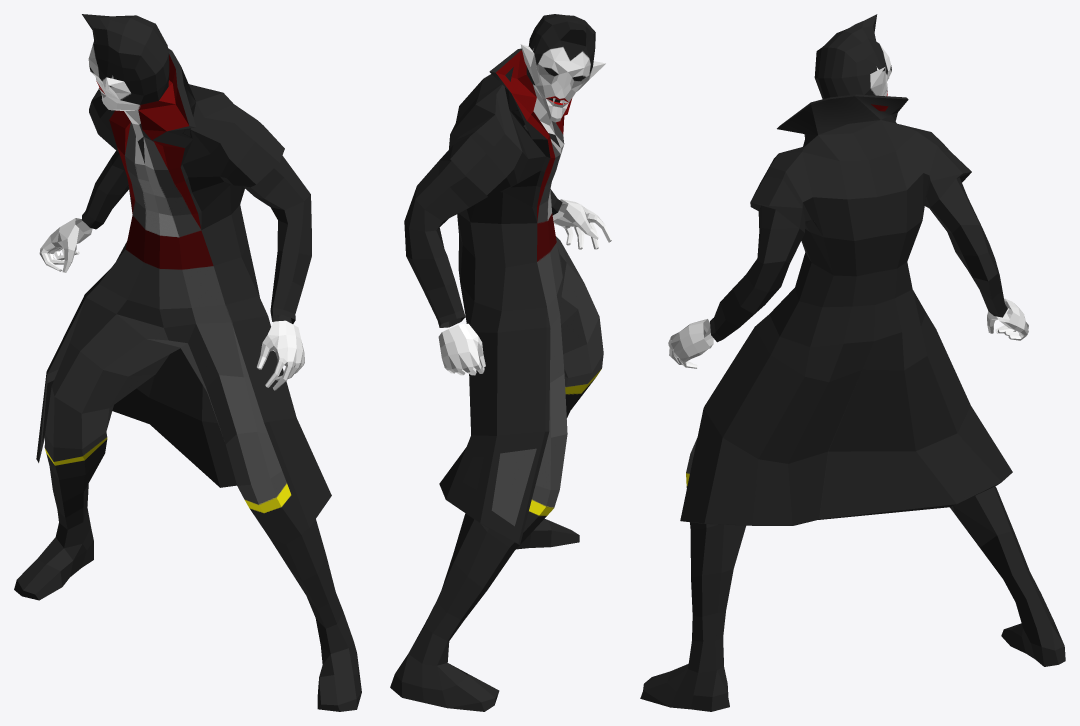
Rendered from VampireIdle(64).obj.
3 views of the same model, side by side, from view 1: azimuth 30°, elevation 25°; view 2: azimuth 150°, elevation 25°; view 3: azimuth 270°, elevation 25° (orthographic). The views are drawn at different scales.
Visible parts, largest first — view 1: Plane002; view 2: Plane002; view 3: Plane002.
Part boxes in pixels (<box>): Plane002: <box>14,14,361,711</box>; Plane002: <box>390,14,611,711</box>; Plane002: <box>640,14,1065,711</box>.
Size of the model in its own units: 97.13 by 306 by 192.
